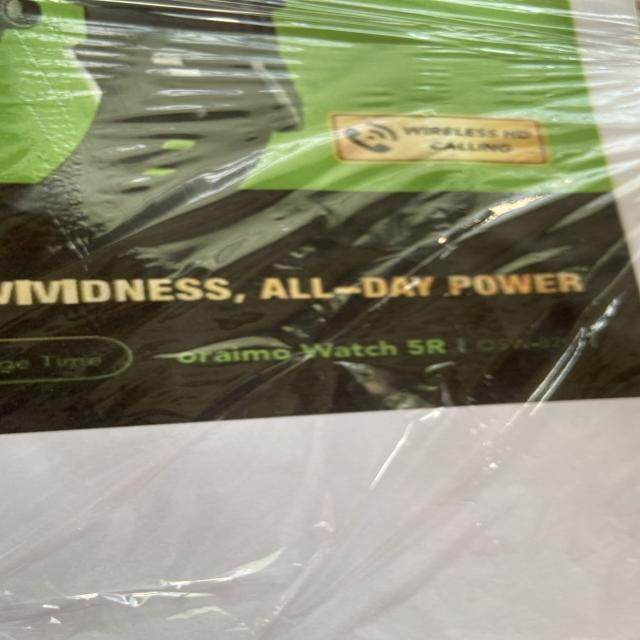Oraimo Watch 5R OSW-820: (181, 330, 607, 374)
